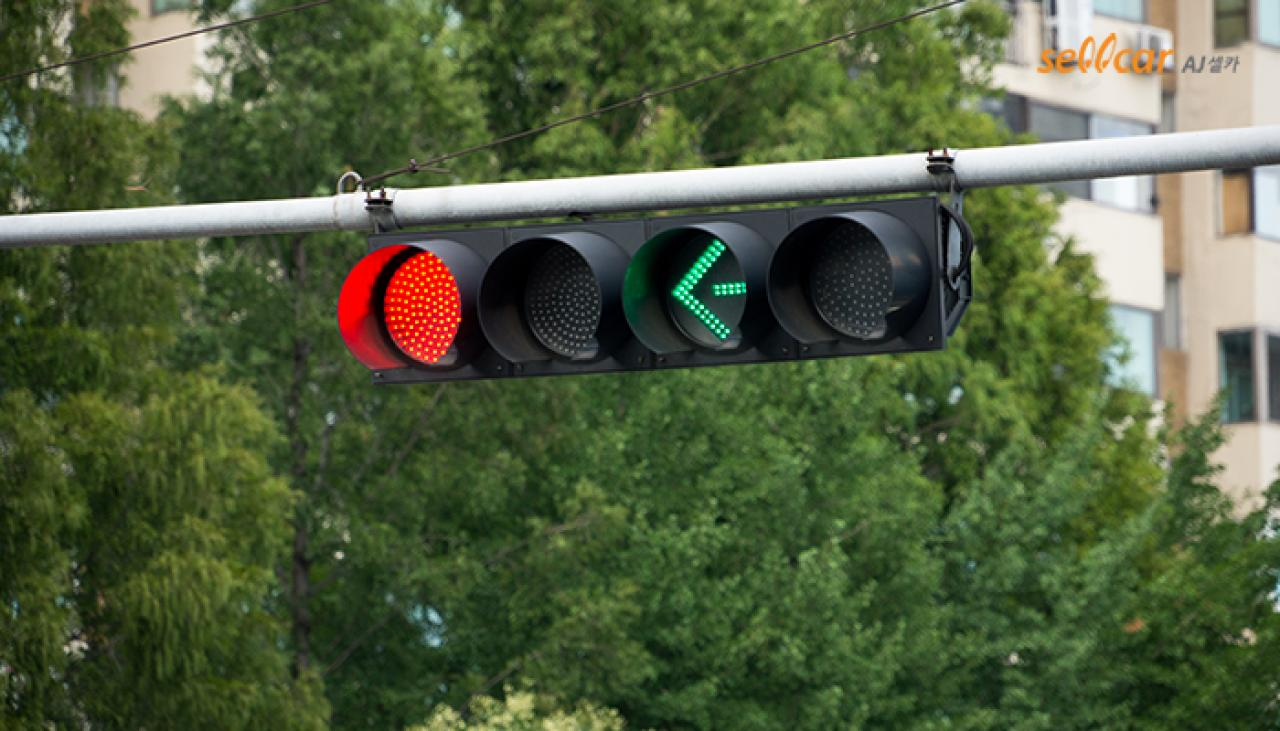Left turn: (622, 213, 766, 366)
Red Light: (333, 230, 483, 378)
